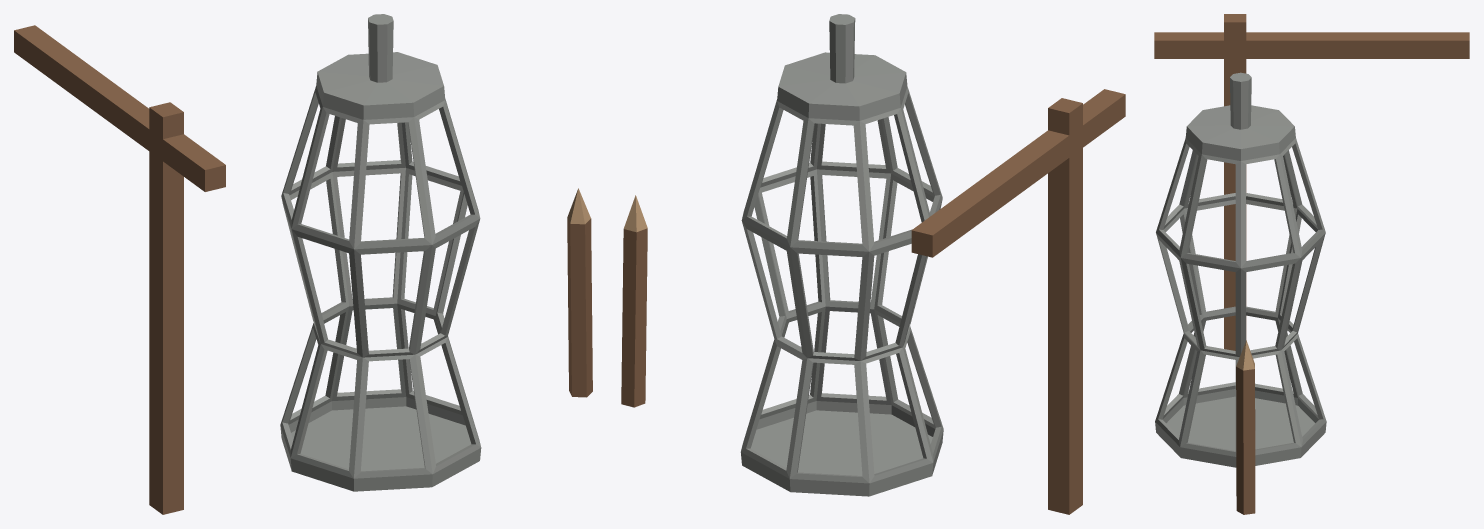
File: Ultimi asset.fbx
The picture shows the model from 3 angles, left to right: view 1: azimuth 30°, elevation 25°; view 2: azimuth 150°, elevation 25°; view 3: azimuth 270°, elevation 25°; orthographic projection. The views are drawn at different scales.
Parts seen in each view (by area): view 1: Gabbia, Asta gabbia, Spuntone; view 2: Gabbia, Asta gabbia, Spuntone; view 3: Gabbia, Asta gabbia, Spuntone.
Part boxes in pixels (<box>): Gabbia: <box>280,14,481,491</box>; Asta gabbia: <box>14,25,225,514</box>; Spuntone: <box>567,188,592,397</box>; Gabbia: <box>740,14,943,496</box>; Asta gabbia: <box>911,89,1125,514</box>; Spuntone: <box>621,195,647,407</box>; Gabbia: <box>1155,72,1326,467</box>; Asta gabbia: <box>1154,14,1469,350</box>; Spuntone: <box>1236,340,1255,514</box>.
Bounding box in the file's own units: 2.54 × 1.9 × 2.37.
